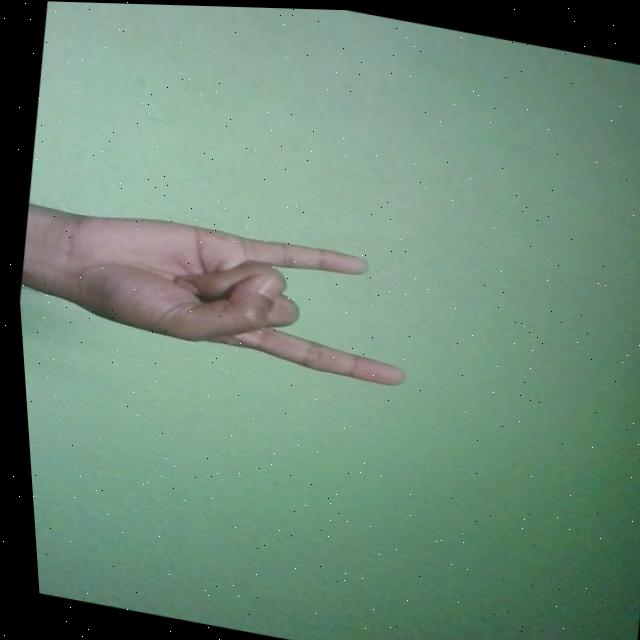Rock On: (38, 198, 417, 386)
